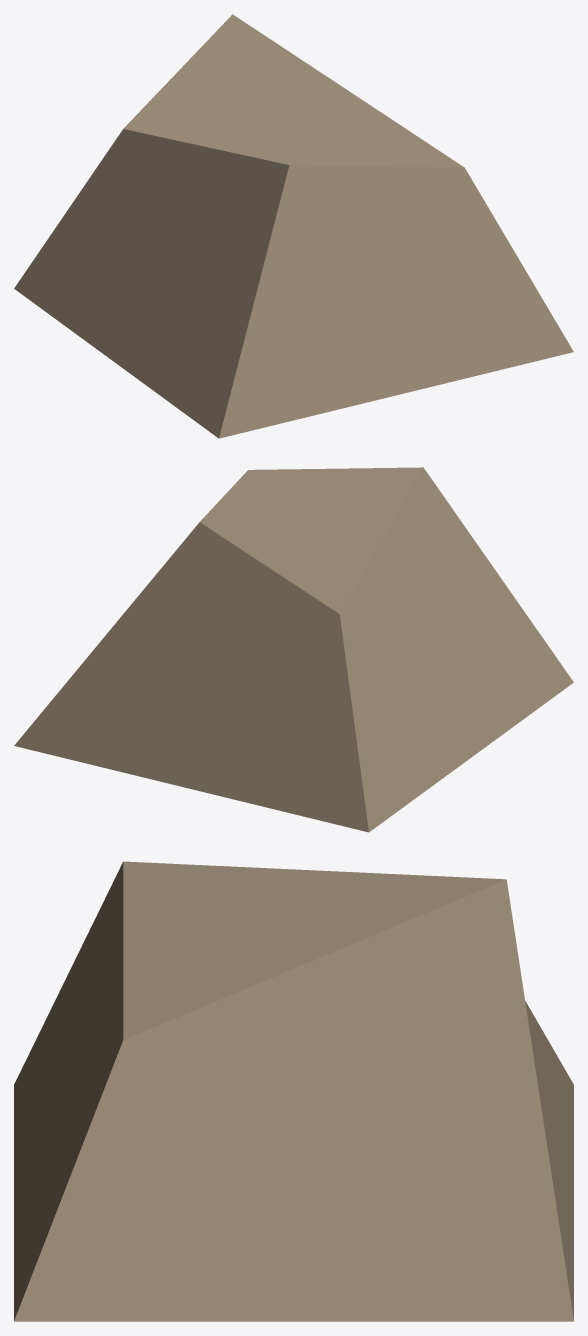
The model's file is rock big.fbx.
The picture shows the model from 3 angles, top to bottom: view 1: azimuth 30°, elevation 25°; view 2: azimuth 150°, elevation 25°; view 3: azimuth 270°, elevation 25°; orthographic projection. The views are drawn at different scales.
Parts seen in each view (by area): view 1: big_rock; view 2: big_rock; view 3: big_rock.
Boxes of the visible parts, left/top/right/bottom form: big_rock: left=14, top=14, right=573, bottom=438; big_rock: left=14, top=467, right=573, bottom=832; big_rock: left=14, top=861, right=573, bottom=1321.
Bounding box in the file's own units: 11.25 × 7.42 × 11.25.
